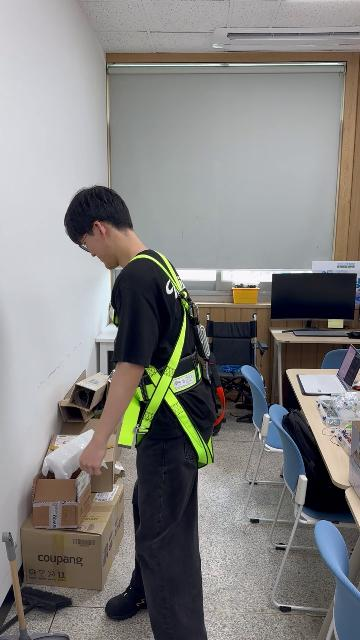helmet_not_worn: (64, 184, 137, 241)
shoe_worn: (104, 585, 147, 621)
vest_worn: (119, 261, 219, 459)
